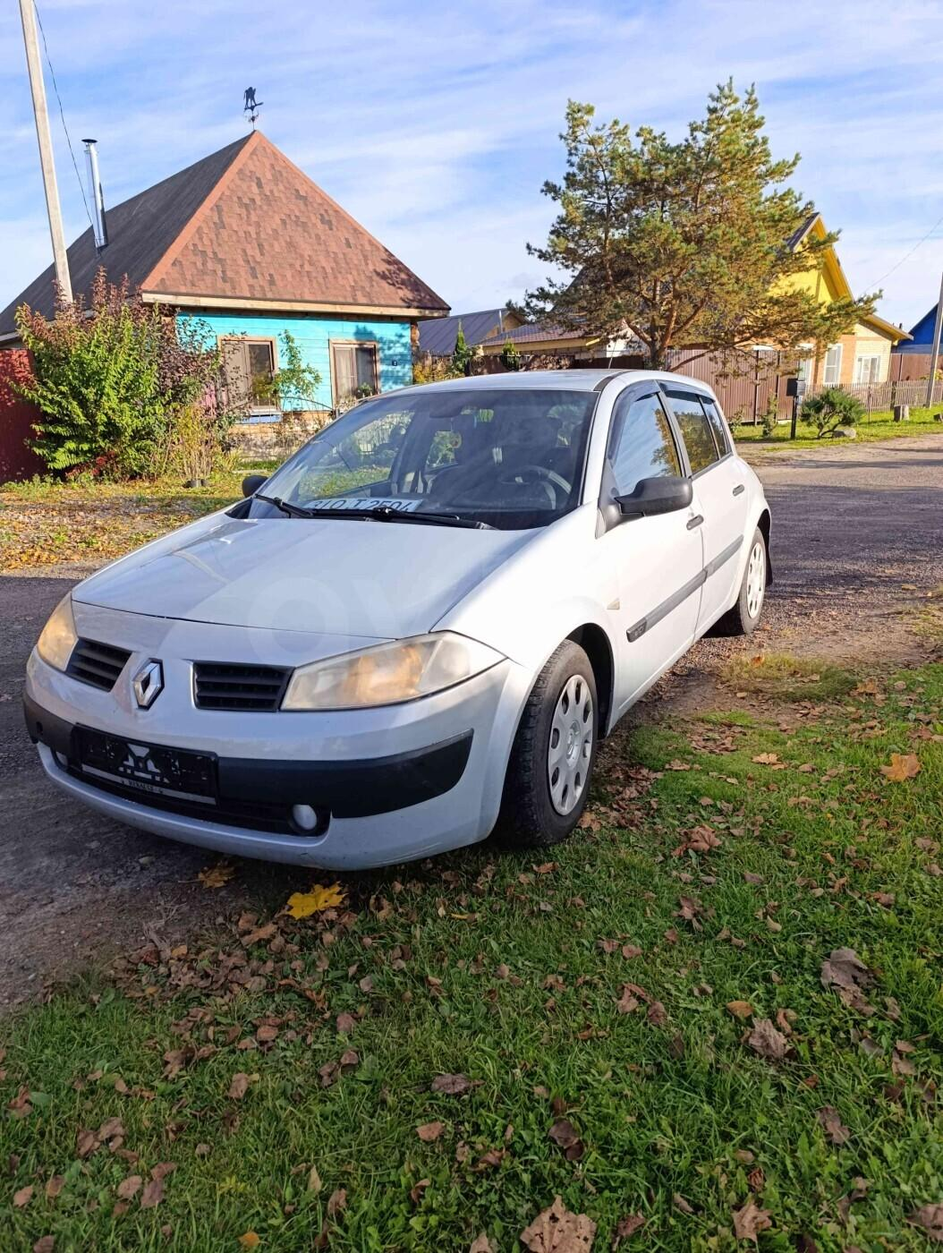Megane_2002-2006: (20, 365, 782, 879)
